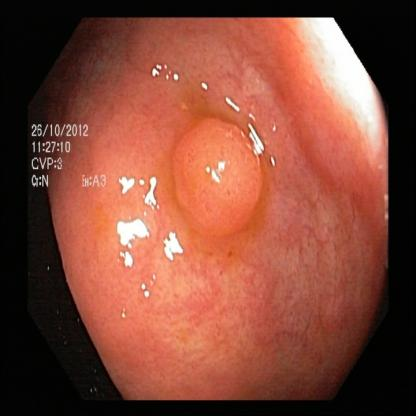Labels: (30, 121, 109, 192)
Polyps: (161, 125, 270, 235)
